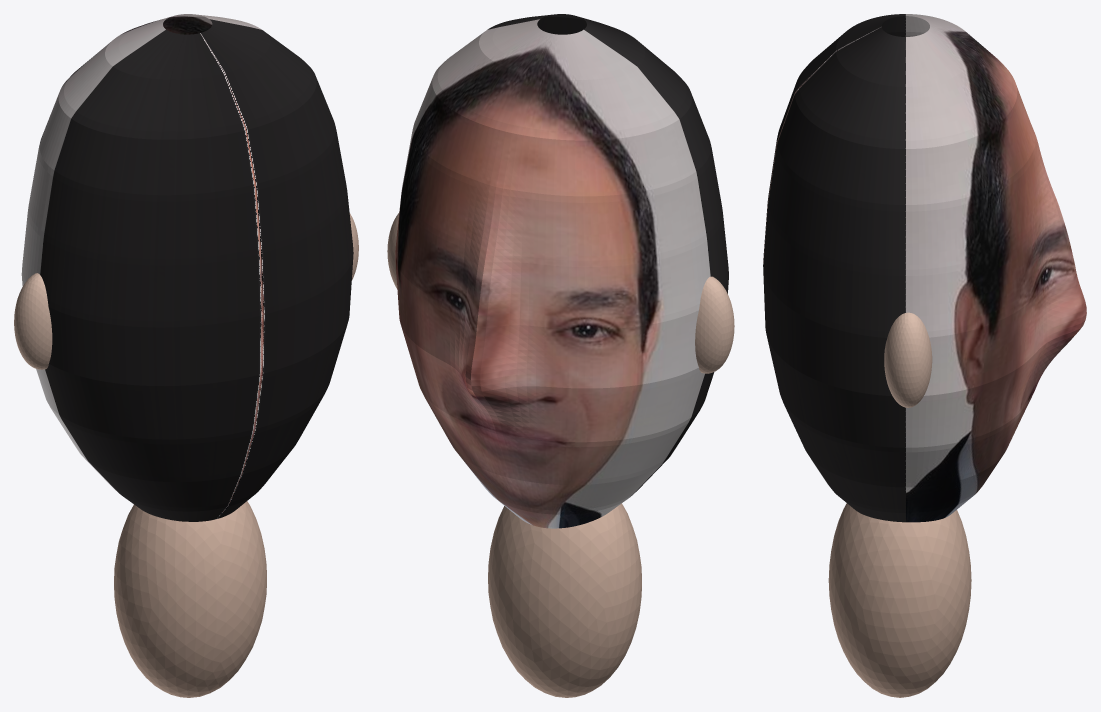
The model's file is portrait_face_model.glb.
3 views of the same model, side by side, from view 1: azimuth 30°, elevation 25°; view 2: azimuth 150°, elevation 25°; view 3: azimuth 270°, elevation 25° (orthographic).
Visible parts, largest first — view 1: Textured_Head, Neck, Ear_1; view 2: Textured_Head, Neck, Ear_1; view 3: Textured_Head, Neck, Ear_2.
Part boxes in pixels (box(x1,y1,x2,y2)): Textured_Head: box(21, 14, 353, 521); Neck: box(114, 501, 266, 697); Ear_1: box(14, 273, 52, 369); Textured_Head: box(395, 14, 728, 528); Neck: box(488, 503, 641, 697); Ear_1: box(695, 276, 734, 373); Textured_Head: box(763, 14, 1086, 522); Neck: box(828, 503, 971, 697); Ear_2: box(884, 312, 932, 407).
Bounding box in the file's own units: 1.7 × 3.19 × 1.41.
Materials: 3 (1 with a texture image).
